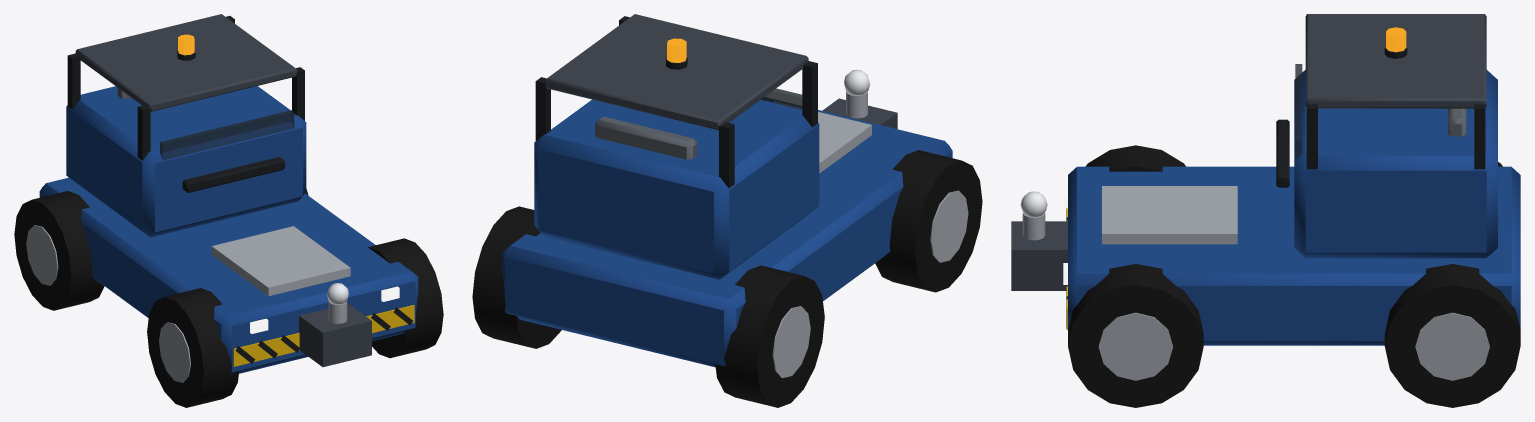
Rendered from loader_cargo_tug.glb.
3 views of the same model, side by side, from view 1: azimuth 30°, elevation 25°; view 2: azimuth 150°, elevation 25°; view 3: azimuth 270°, elevation 25° (orthographic). The views are drawn at different scales.
Visible parts, largest first — view 1: loader_cargo_tug; view 2: loader_cargo_tug; view 3: loader_cargo_tug.
Boxes of the visible parts, <box> form: loader_cargo_tug: <box>14,14,443,407</box>; loader_cargo_tug: <box>472,14,982,407</box>; loader_cargo_tug: <box>1011,14,1520,407</box>.
Bounding box in the file's own units: 1.47 × 1.5 × 2.25.
